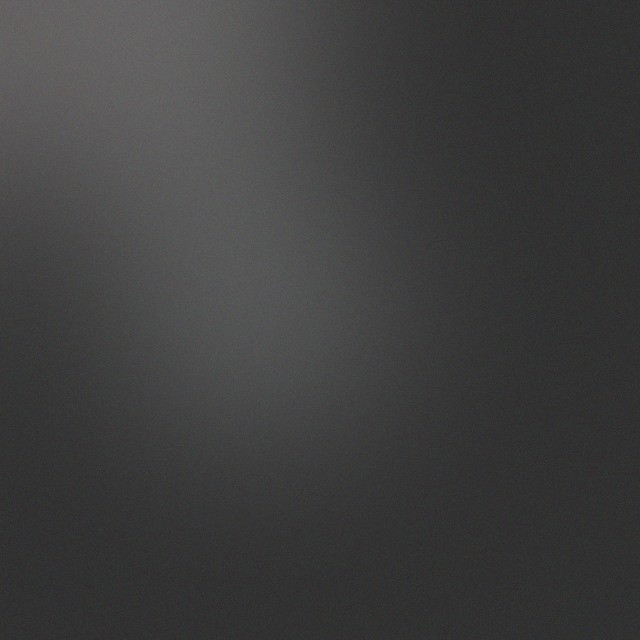smoke: (107, 33, 475, 401)
